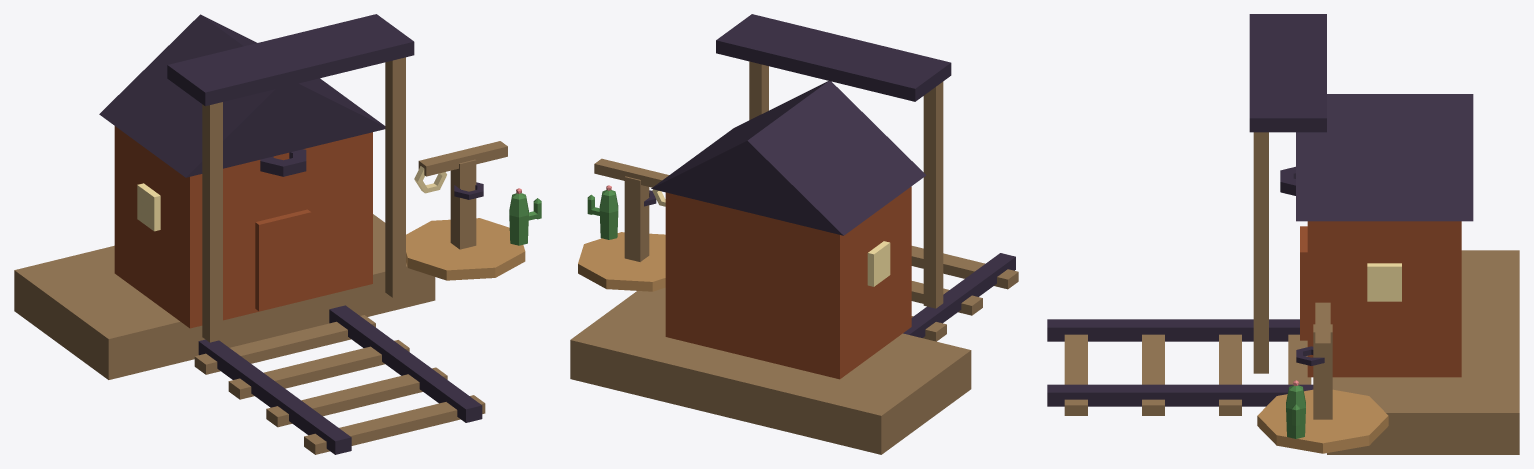
The model's file is wildwest-landmark-s2c.glb.
3 views of the same model, side by side, from view 1: azimuth 30°, elevation 25°; view 2: azimuth 150°, elevation 25°; view 3: azimuth 270°, elevation 25° (orthographic). The views are drawn at different scales.
Visible parts, largest first — view 1: wildwest-landmark-s2c; view 2: wildwest-landmark-s2c; view 3: wildwest-landmark-s2c.
Part boxes in pixels (x1,y1,x2,y2): wildwest-landmark-s2c: [14, 14, 541, 454]; wildwest-landmark-s2c: [570, 14, 1018, 454]; wildwest-landmark-s2c: [1047, 14, 1519, 454].
Bounding box in the file's own units: 1.28 × 0.88 × 1.23.
